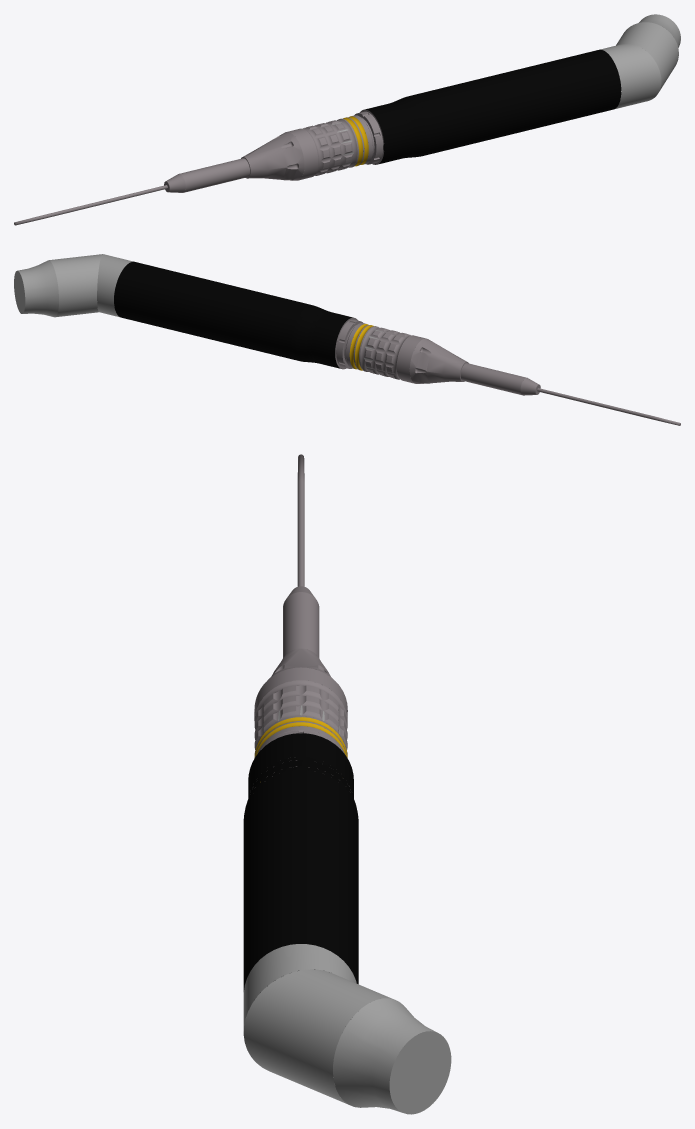
The model's file is 2mm_drill_body.OBJ.
The picture shows the model from 3 angles, top to bottom: view 1: azimuth 30°, elevation 25°; view 2: azimuth 150°, elevation 25°; view 3: azimuth 270°, elevation 25°; orthographic projection. The views are drawn at different scales.
Visible parts, largest first — view 1: /ambf/env/2mm_drill_body; view 2: /ambf/env/2mm_drill_body; view 3: /ambf/env/2mm_drill_body.
Part boxes in pixels (bbox=[...]): /ambf/env/2mm_drill_body: bbox=[14, 14, 680, 225]; /ambf/env/2mm_drill_body: bbox=[14, 254, 680, 425]; /ambf/env/2mm_drill_body: bbox=[243, 454, 451, 1114].
Size of the model in its own units: 0.4937 by 0.0381 by 0.0689.
